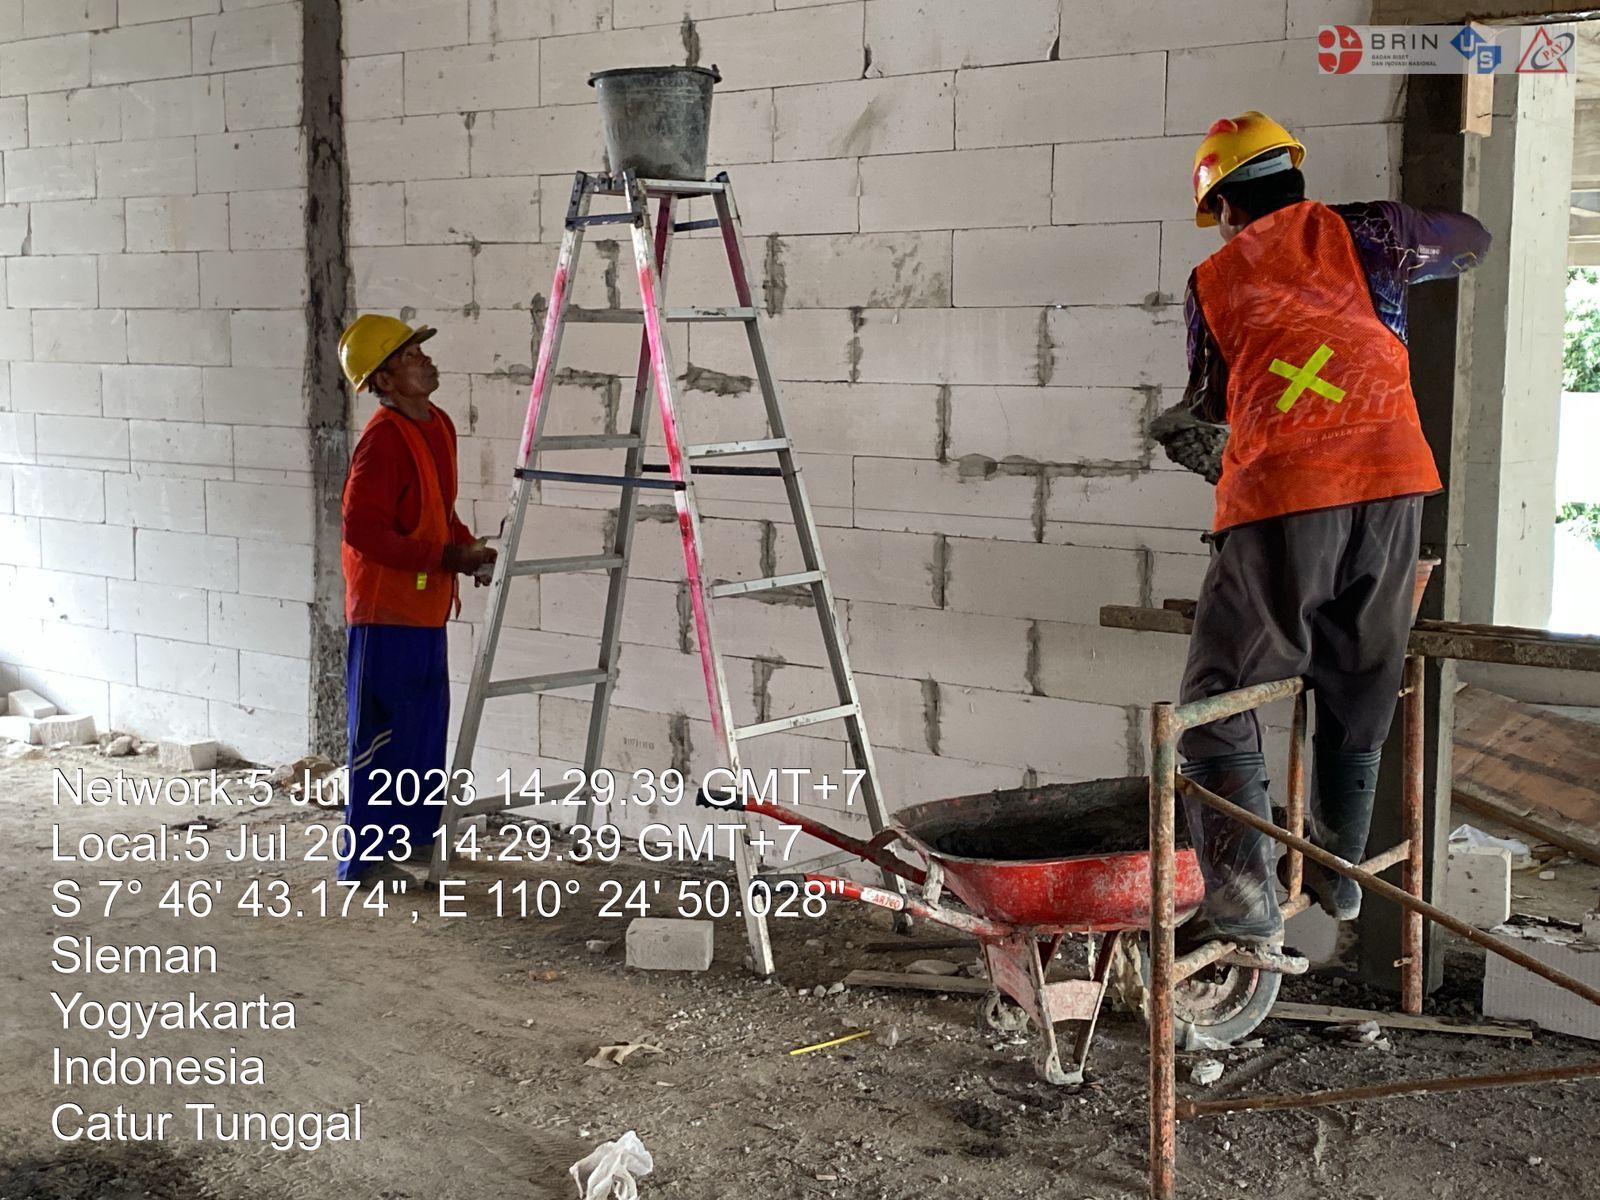hat: (291, 268, 481, 429), (1148, 81, 1334, 241)
vest: (1162, 200, 1431, 528), (344, 391, 498, 681)
